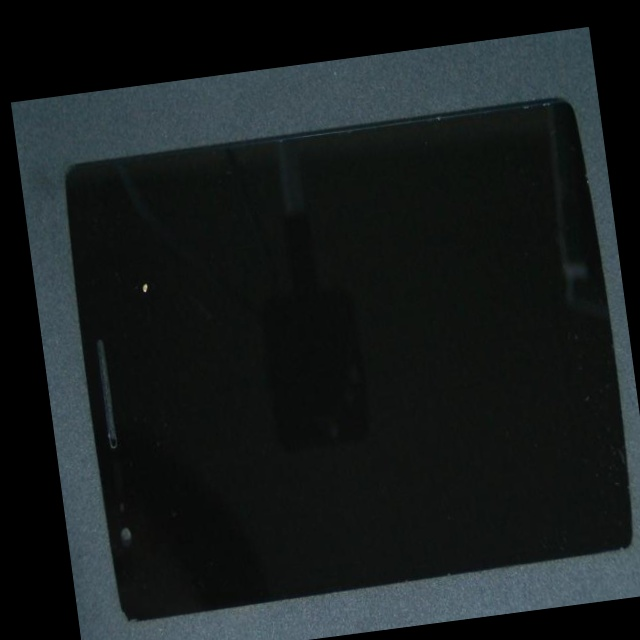stain: (72, 131, 203, 372)
